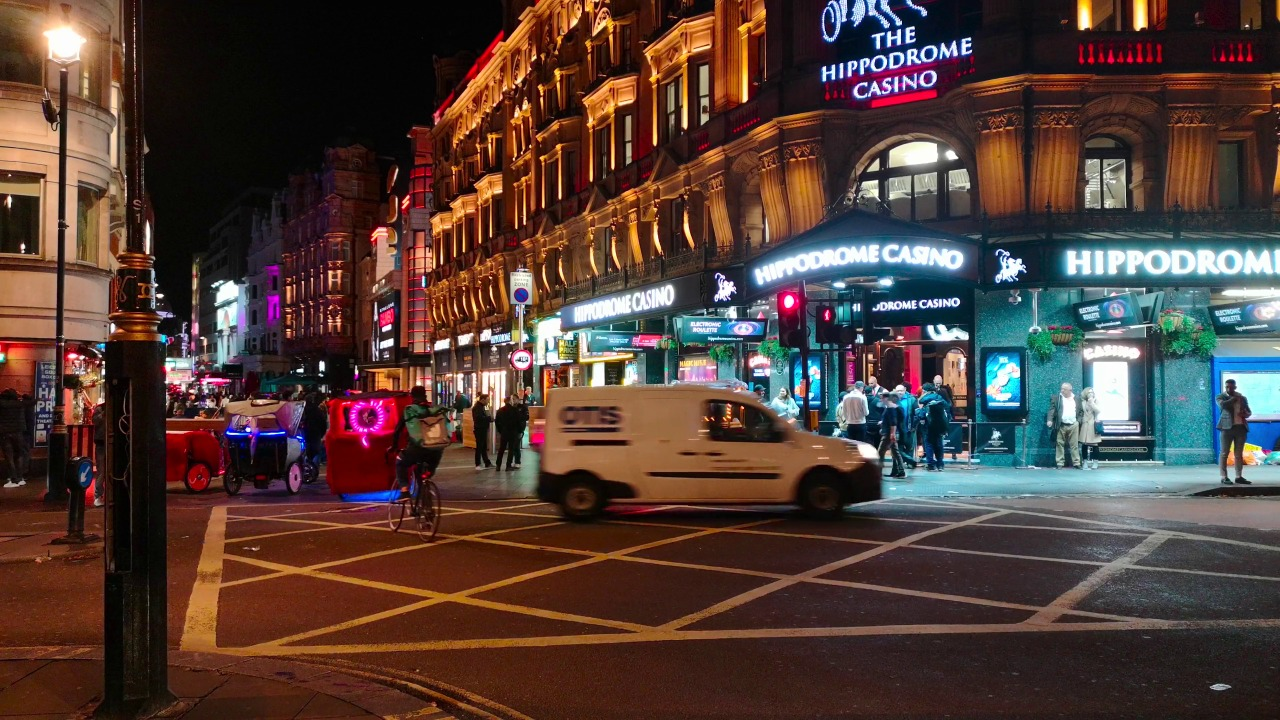car: (535, 385, 886, 523), (319, 388, 422, 500), (219, 399, 315, 496), (163, 415, 220, 494)
person: (388, 381, 444, 534), (1216, 372, 1253, 486), (1045, 378, 1086, 469), (1079, 388, 1116, 473), (2, 379, 30, 487), (889, 388, 917, 482), (920, 395, 949, 479), (506, 392, 535, 474), (878, 392, 902, 483), (88, 396, 107, 509), (890, 380, 919, 442), (473, 395, 493, 476), (844, 380, 868, 447), (302, 396, 325, 463), (497, 393, 514, 475), (769, 383, 799, 428), (864, 387, 882, 431), (833, 389, 851, 429), (919, 379, 943, 408), (748, 381, 766, 404), (520, 384, 536, 408), (930, 373, 945, 393), (867, 374, 880, 395)
